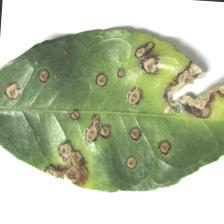canker: (4, 50, 218, 187)
